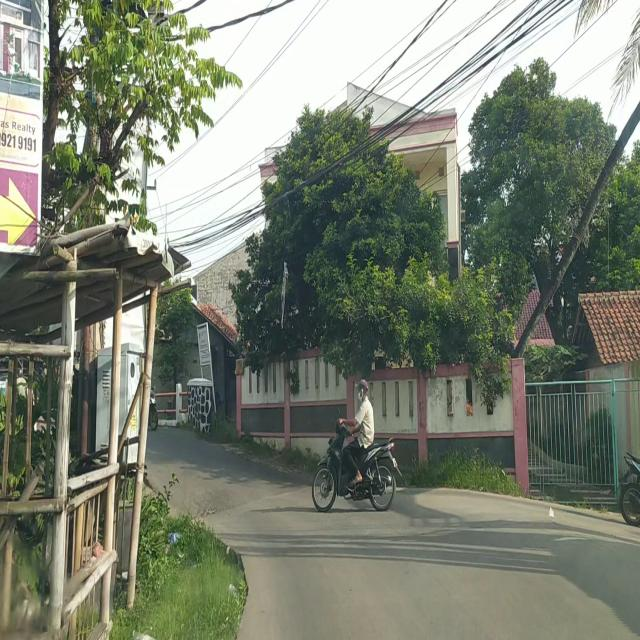Drain Hole: (185, 483, 221, 517)
